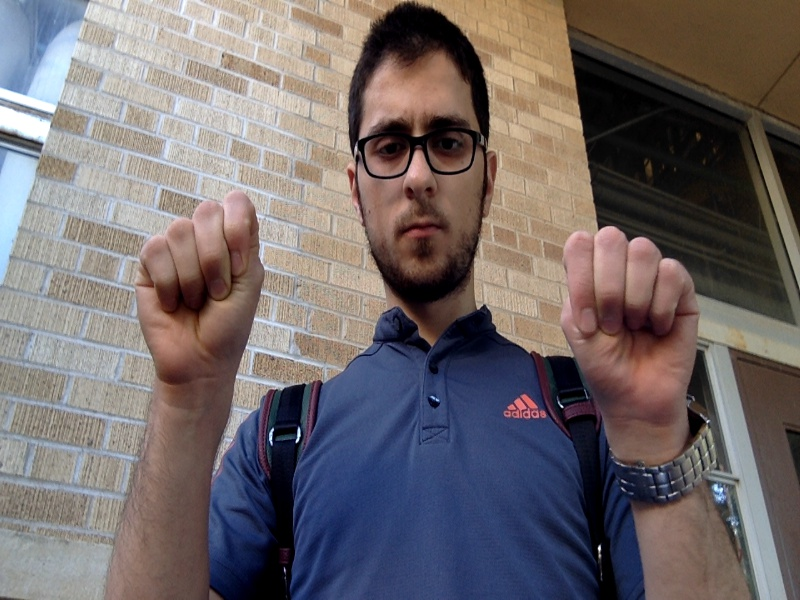0-hand: (562, 227, 697, 424), (135, 191, 263, 381)
